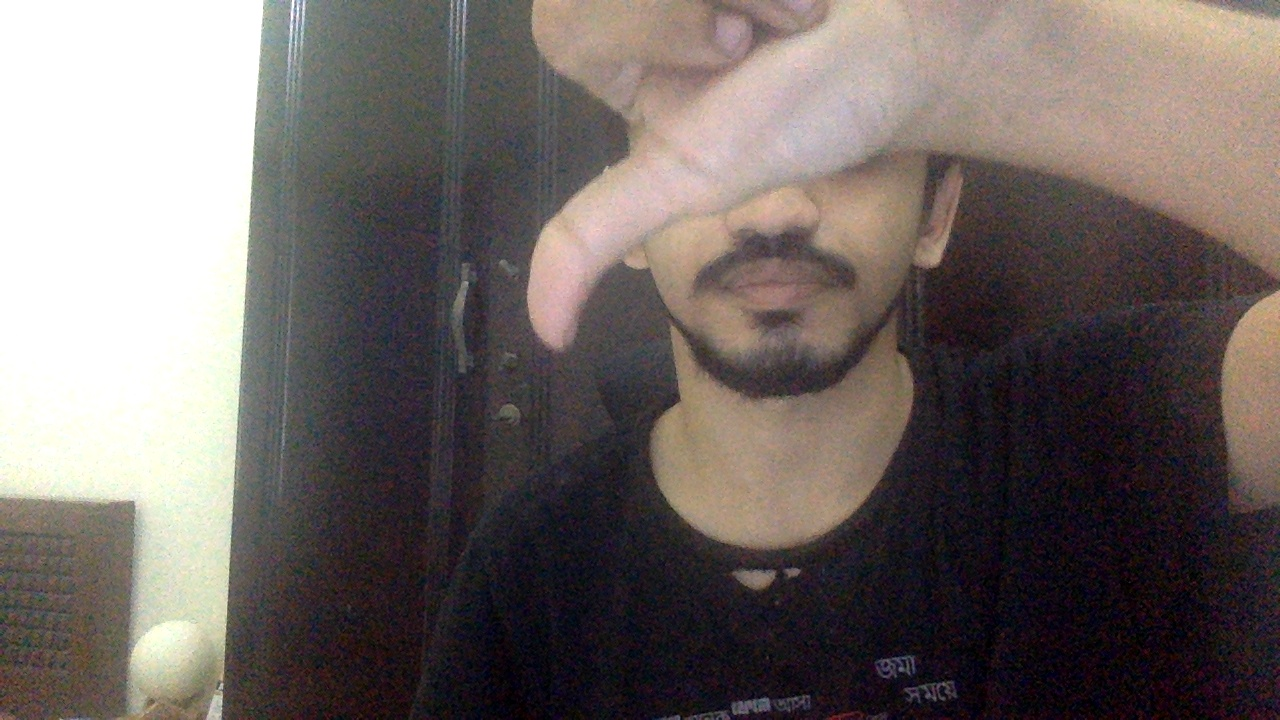bad: (523, 1, 926, 351)
